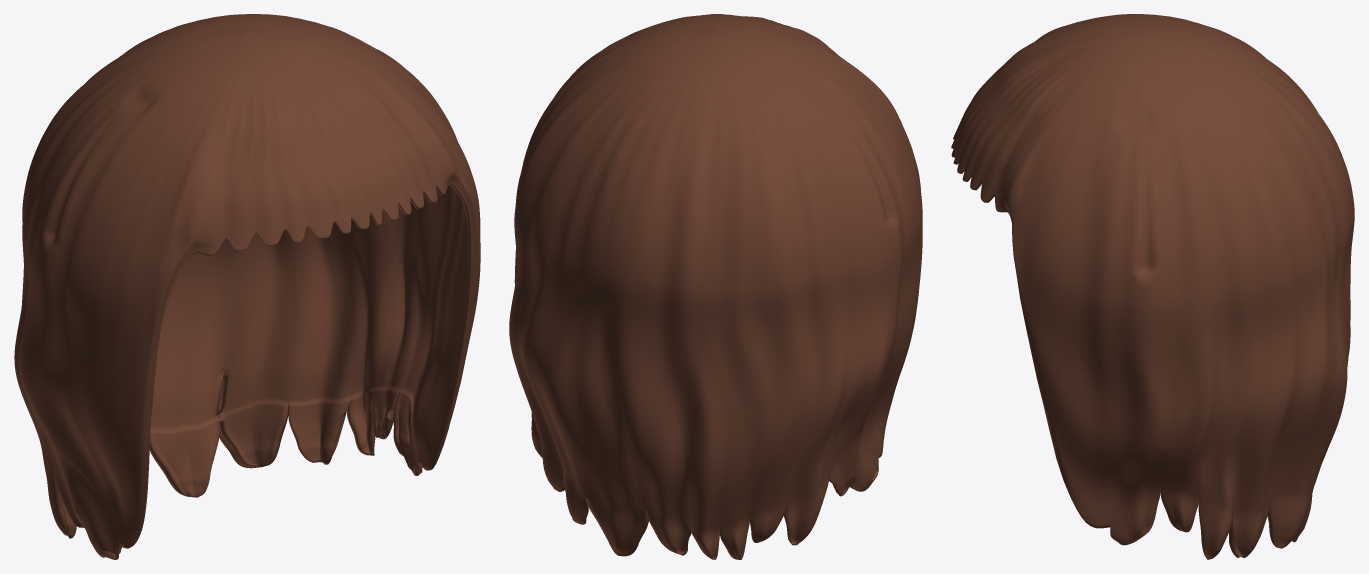
Rendered from long-ears.glb.
The picture shows the model from 3 angles, left to right: view 1: azimuth 30°, elevation 25°; view 2: azimuth 150°, elevation 25°; view 3: azimuth 270°, elevation 25°; orthographic projection. The views are drawn at different scales.
Visible parts, largest first — view 1: Hair / rounded long fringe; view 2: Hair / rounded long fringe; view 3: Hair / rounded long fringe.
Part boxes in pixels (left/top/right/bottom): Hair / rounded long fringe: left=14, top=14, right=480, bottom=559; Hair / rounded long fringe: left=509, top=14, right=922, bottom=559; Hair / rounded long fringe: left=951, top=14, right=1354, bottom=559.
Bounding box in the file's own units: 0.8536 × 1.06 × 0.7801.
